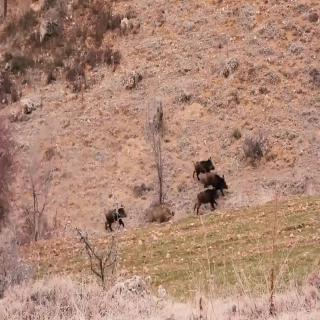Pig: (96, 194, 132, 233), (195, 188, 224, 220), (192, 154, 217, 184), (204, 170, 234, 192)
